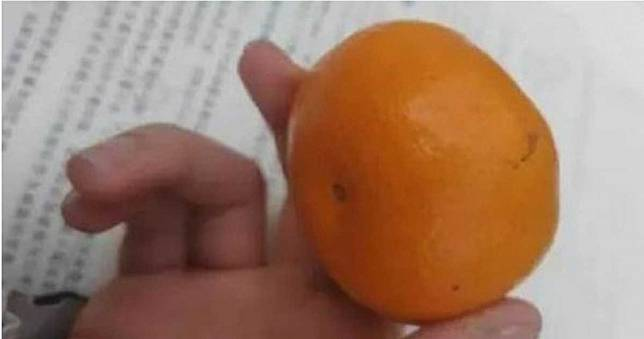orange: (281, 18, 567, 329)
